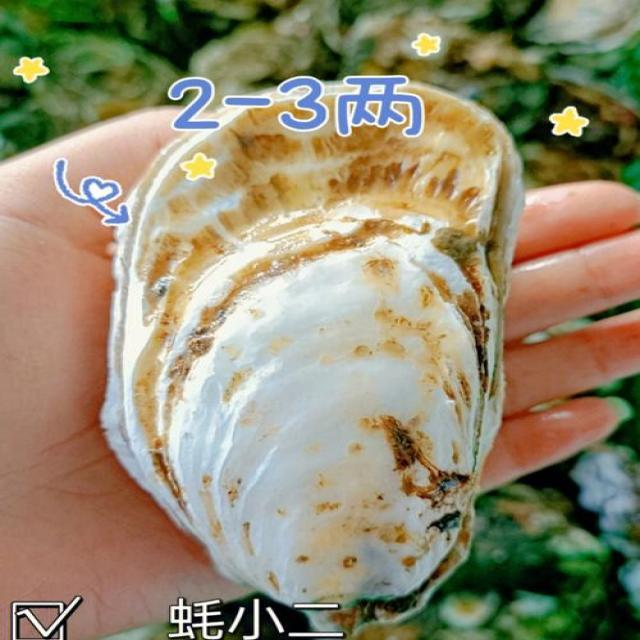Oyster- Indeterminate: (90, 63, 534, 640)
